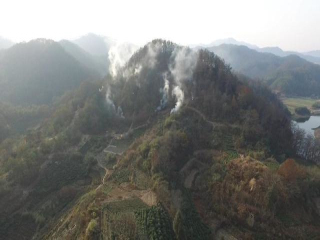smoke: (97, 33, 204, 121)
